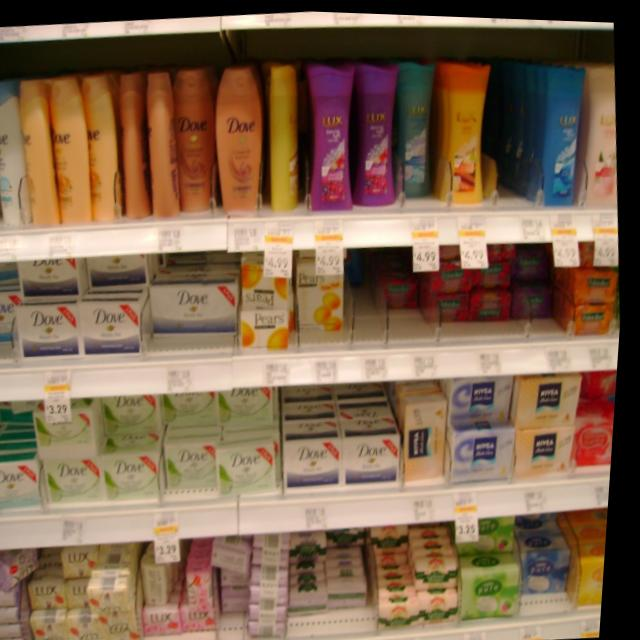q73: (435, 54, 502, 207)
